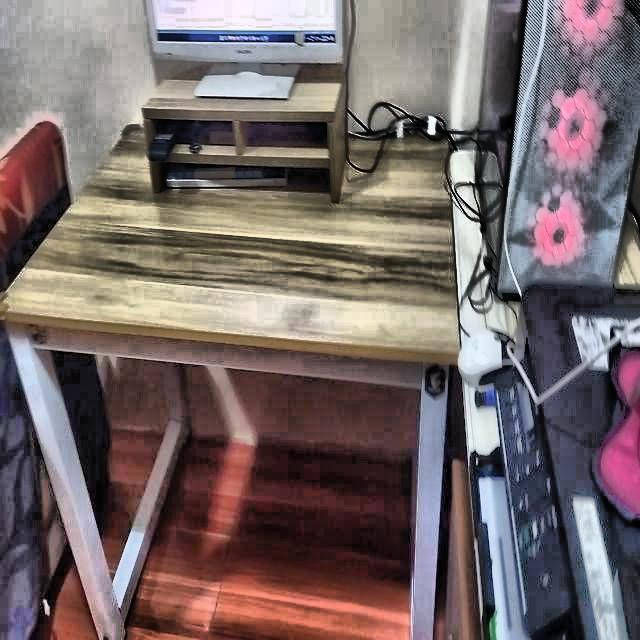mesa: (4, 111, 464, 640)
